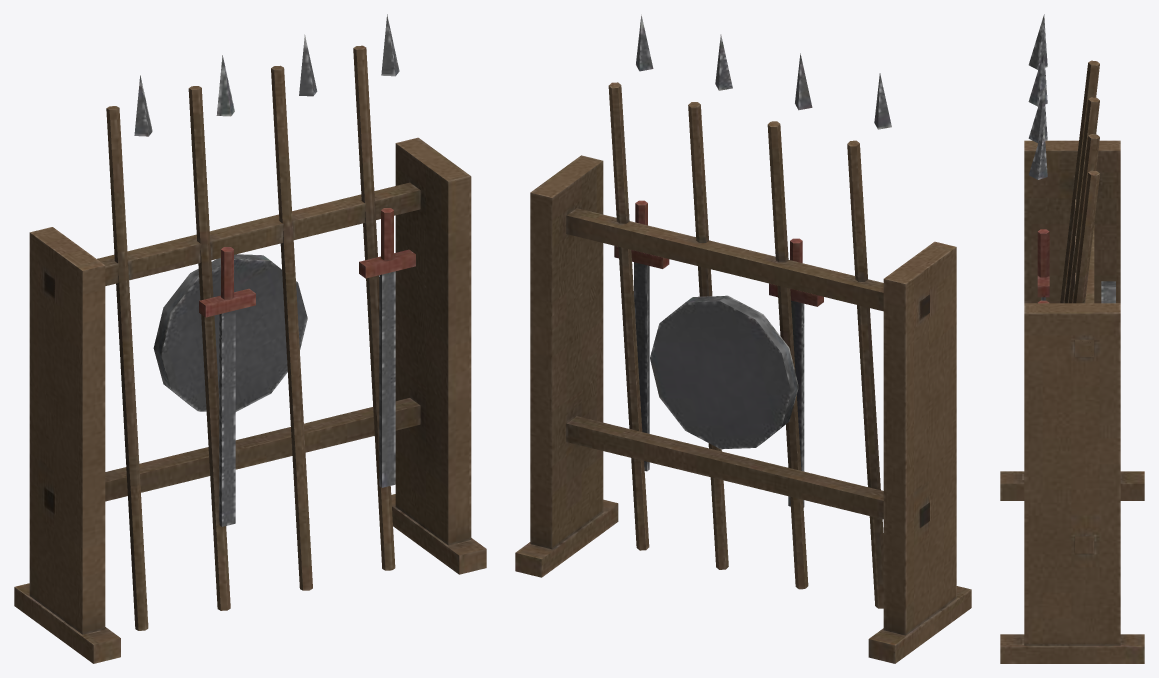
File: armeiro.glb
3 views of the same model, side by side, from view 1: azimuth 30°, elevation 25°; view 2: azimuth 150°, elevation 25°; view 3: azimuth 270°, elevation 25° (orthographic). The views are drawn at different scales.
Visible parts, largest first — view 1: armeiro; view 2: armeiro; view 3: armeiro.
Part boxes in pixels (x1=…): armeiro: x1=14, y1=14, x2=486, y2=663; armeiro: x1=515, y1=14, x2=971, y2=663; armeiro: x1=1000, y1=14, x2=1144, y2=663.
Size of the model in its own units: 1.72 by 2.32 by 0.6.
Materials: 1 (1 with a texture image).
